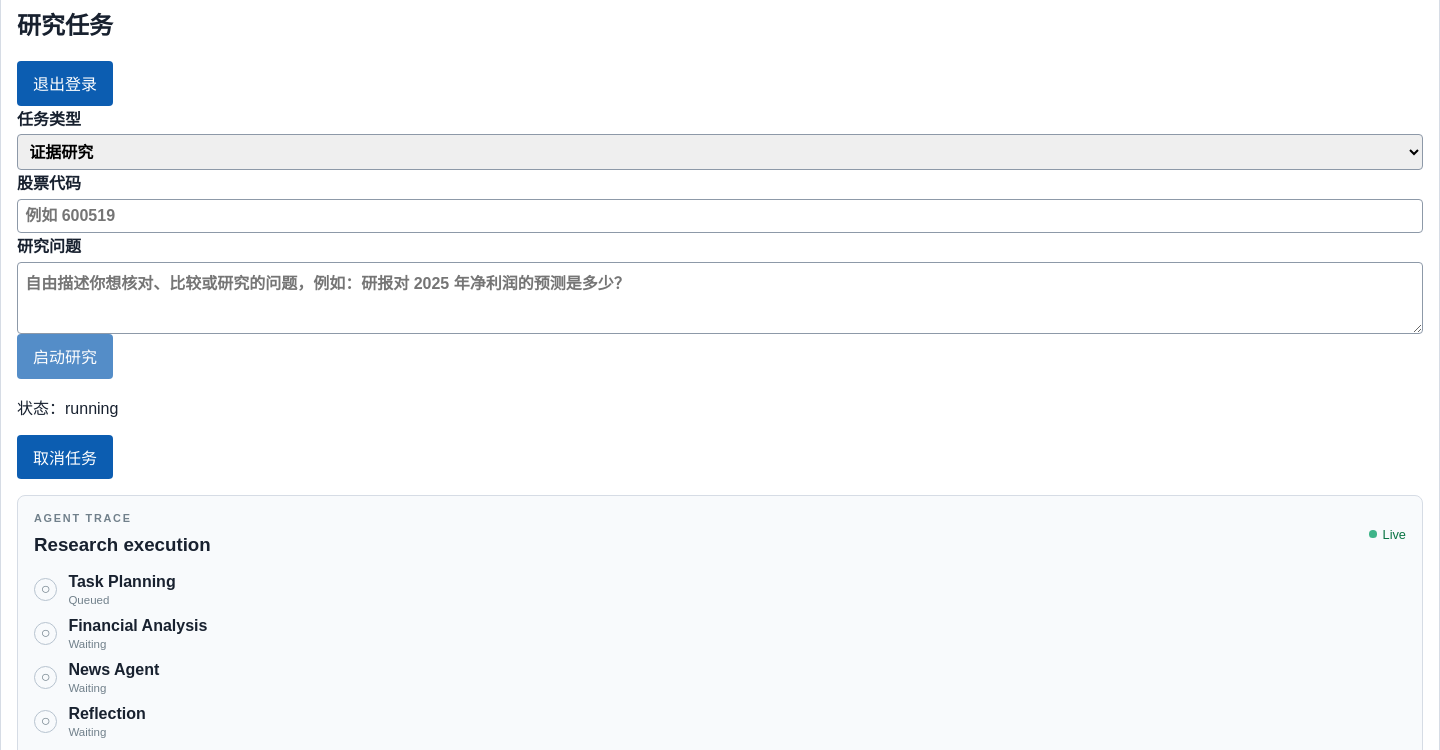
Test case: agent run panel › keeps tracking the run after cancellation fails
This screenshot has width=1440, height=750.
Click the button "取消任务": (65, 457) x1=17 y1=434 x2=113 y2=479
(page scrolled)
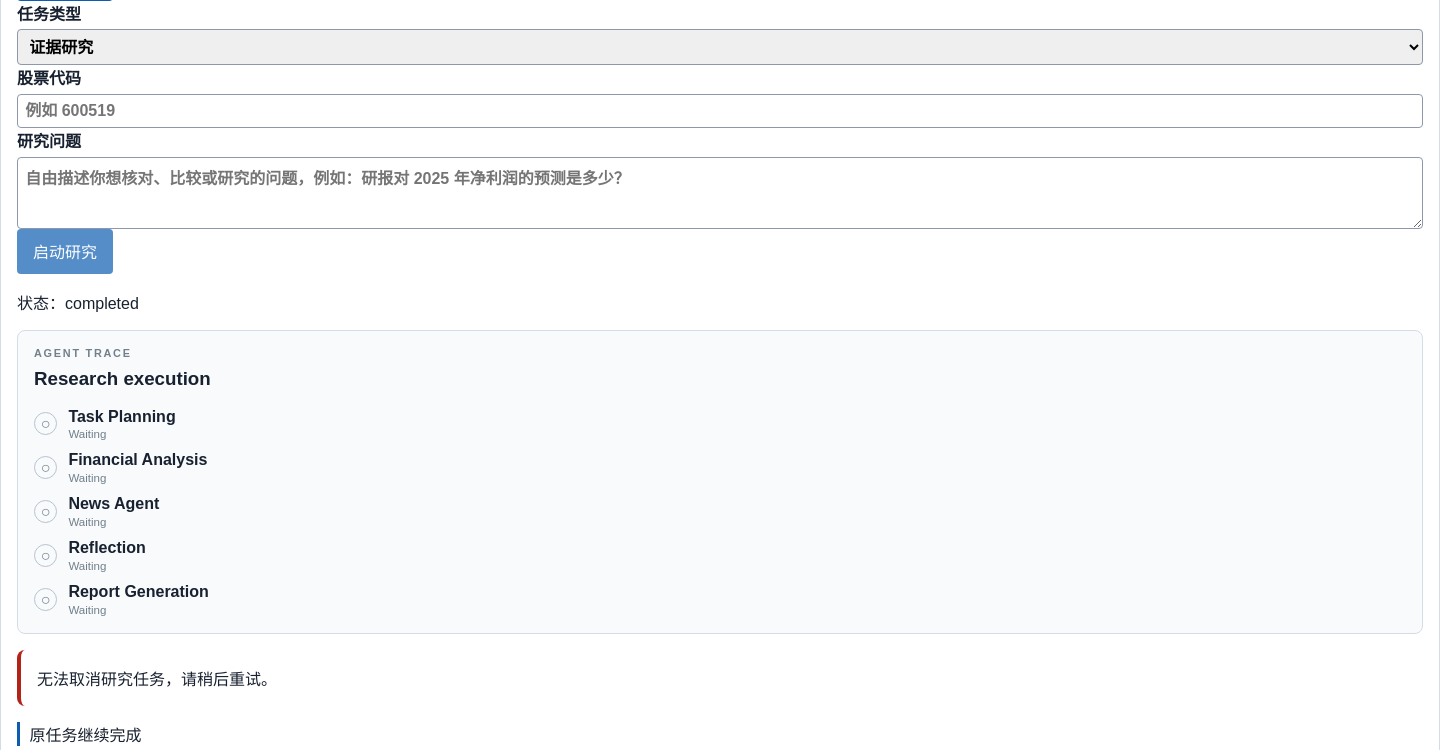
Result: the text "无法取消研究任务，请稍后重试。" is shown at x1=17 y1=650 x2=1423 y2=706
Result: the text "状态：completed" is shown at x1=17 y1=294 x2=139 y2=312
Result: the text "原任务继续完成" is shown at x1=17 y1=722 x2=1423 y2=746
